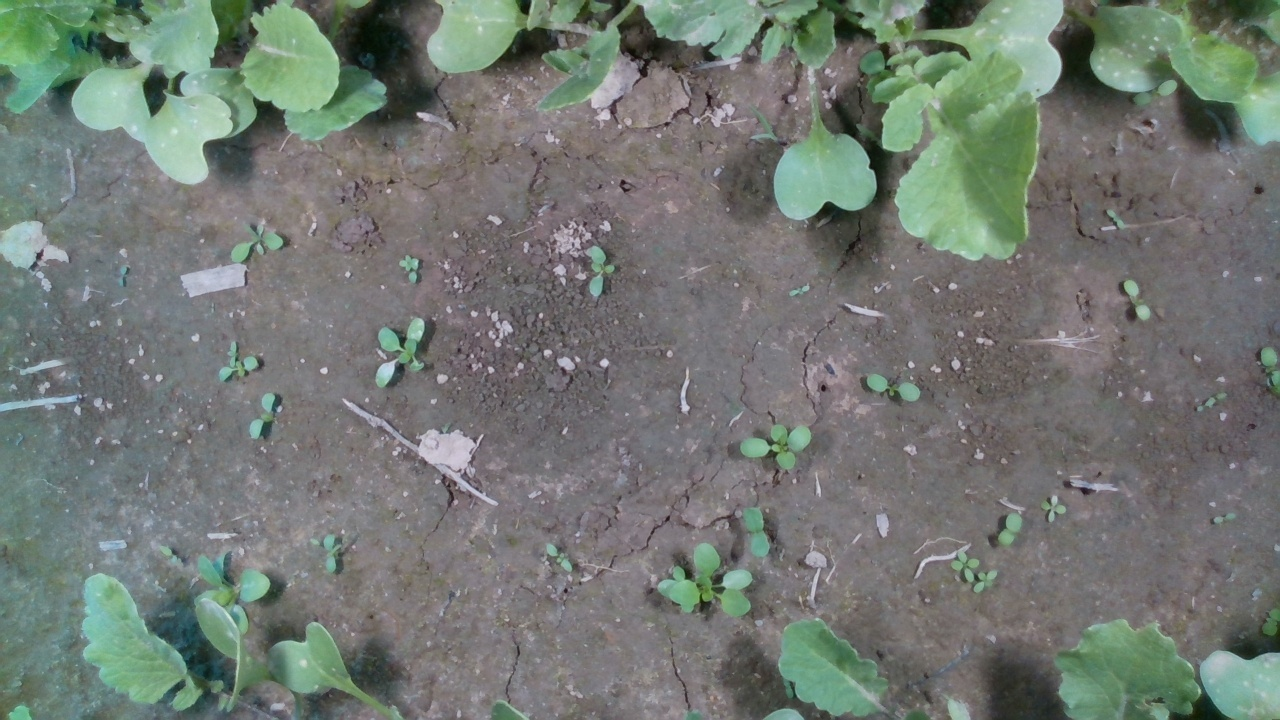weed: (373, 315, 427, 388), (736, 423, 815, 470), (739, 505, 774, 560), (586, 244, 618, 297), (864, 373, 922, 402), (247, 390, 279, 442), (1118, 277, 1153, 324), (995, 508, 1025, 549), (1038, 492, 1068, 524), (545, 542, 574, 572), (320, 532, 340, 575), (1200, 389, 1231, 407), (1104, 209, 1126, 232), (1210, 511, 1236, 527)
